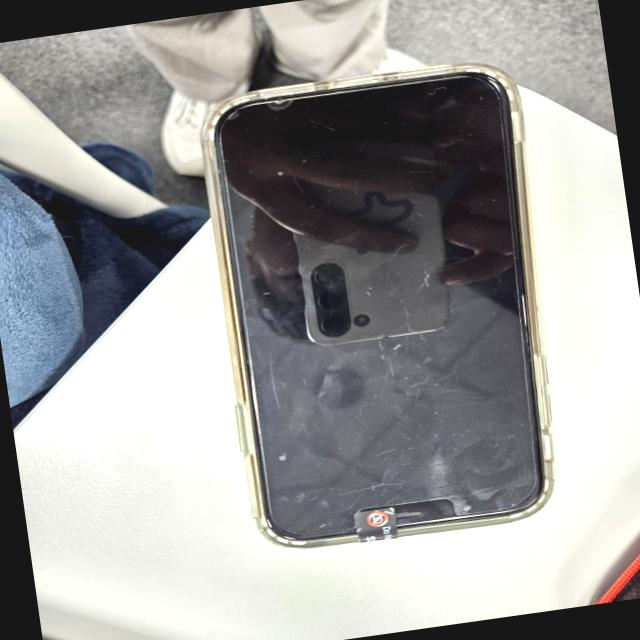phone: (202, 59, 570, 556)
sticker: (350, 502, 400, 550)
